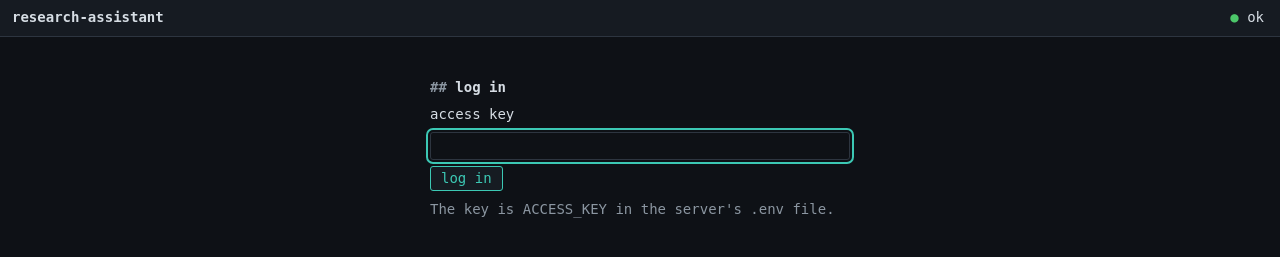
Scenario: login › shows the rate limit message
The image size is (1280, 257).
Type "x" into the password field labelled "access key" at [640, 146], box [430,132,850,160]
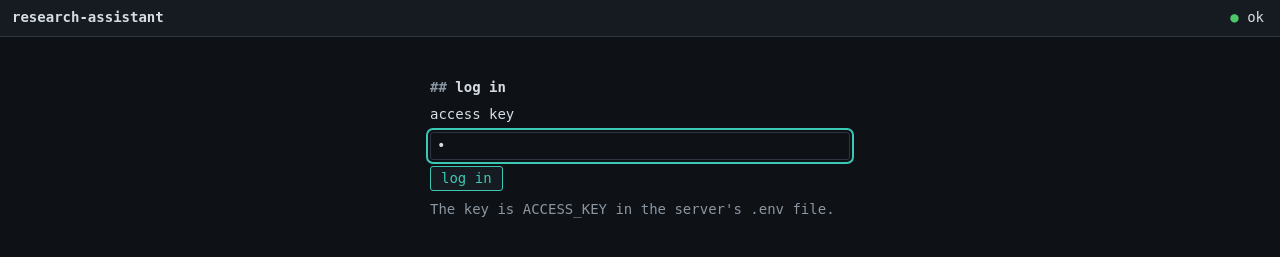
Click the button "log in" at [466, 179], box [430,166,503,192]
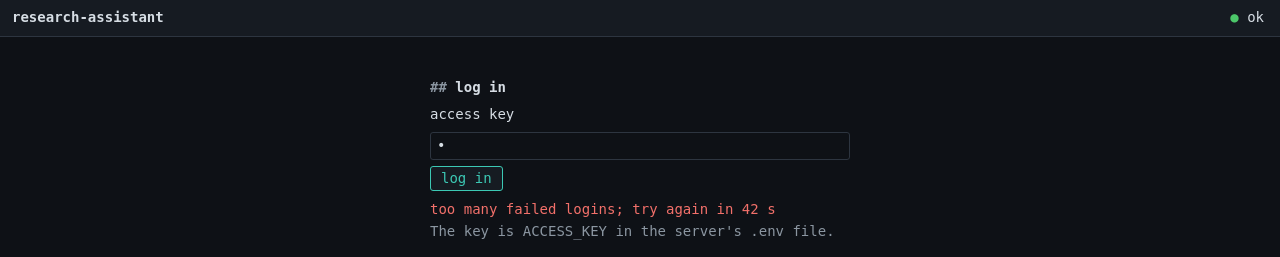
Check: the message "too many failed logins; try again in 42 s" is shown, box [430,201,776,217]
